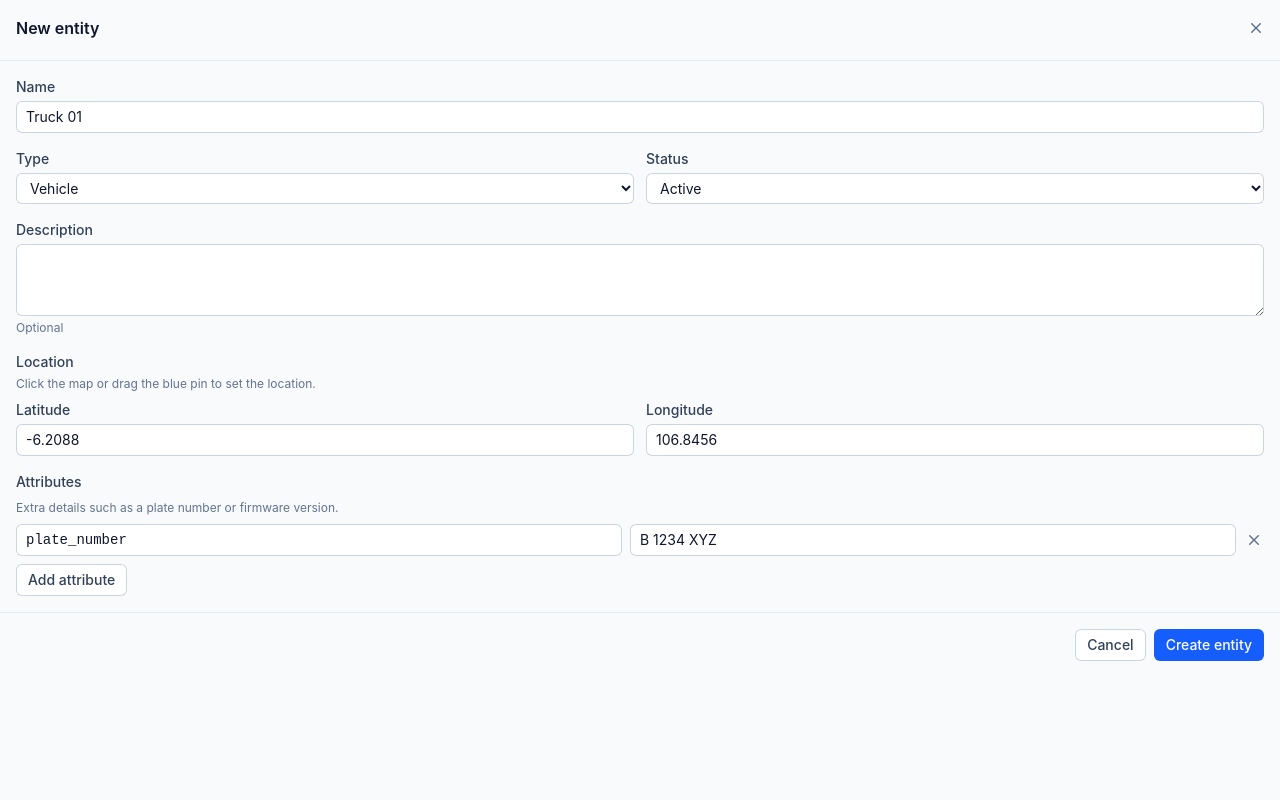
Test: EntityForm › shows other failures at the top of the form
This screenshot has width=1280, height=800.
Click the button "Create entity" at (1209, 645), box [1154,629,1264,661]
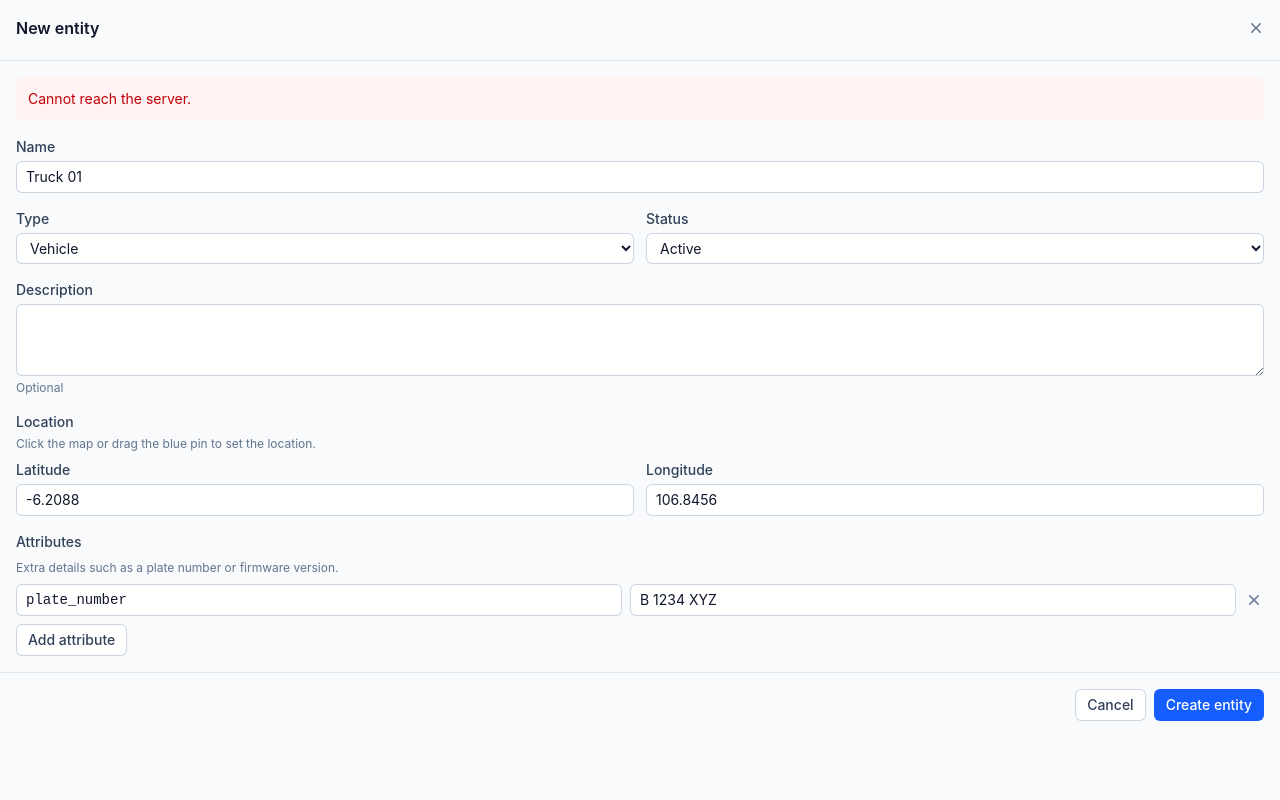
expect the message reads "Cannot reach the server.": met, box [28,90,191,107]
